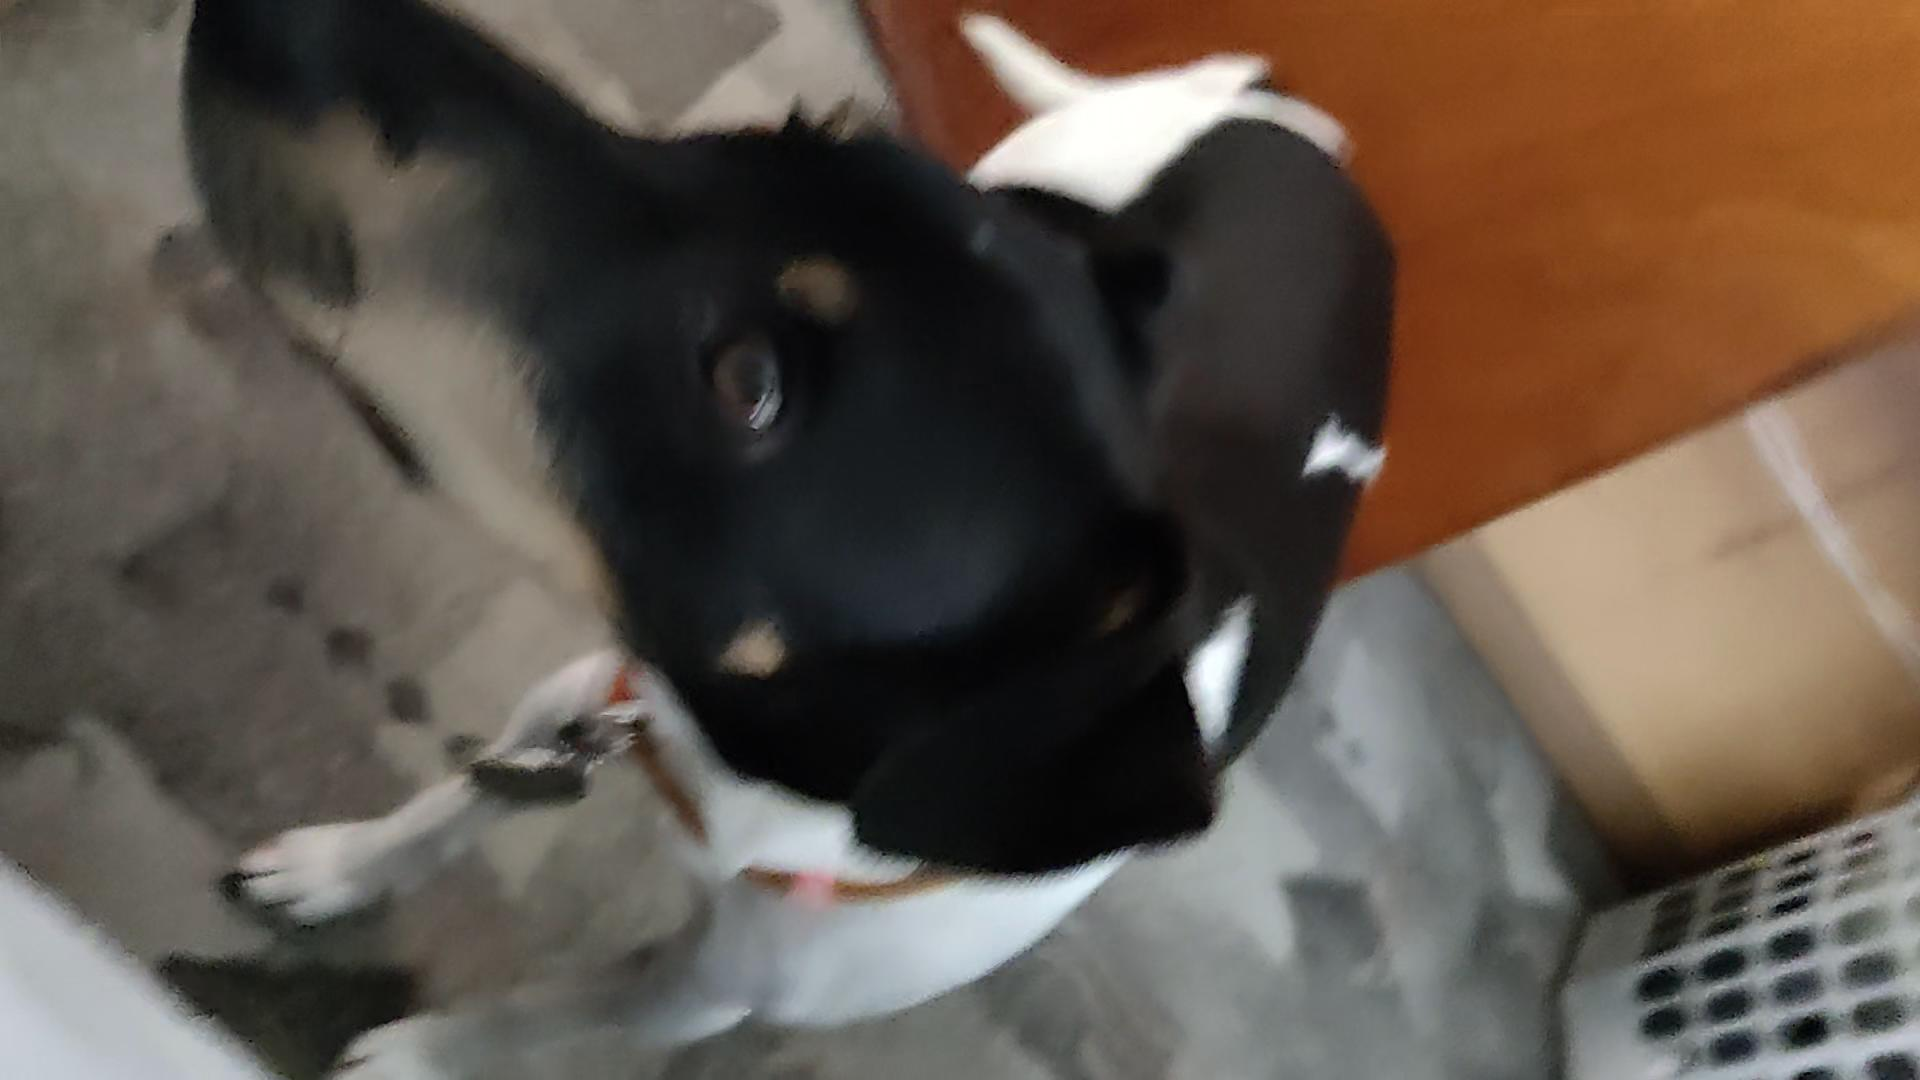Dog: (125, 0, 1432, 1079)
